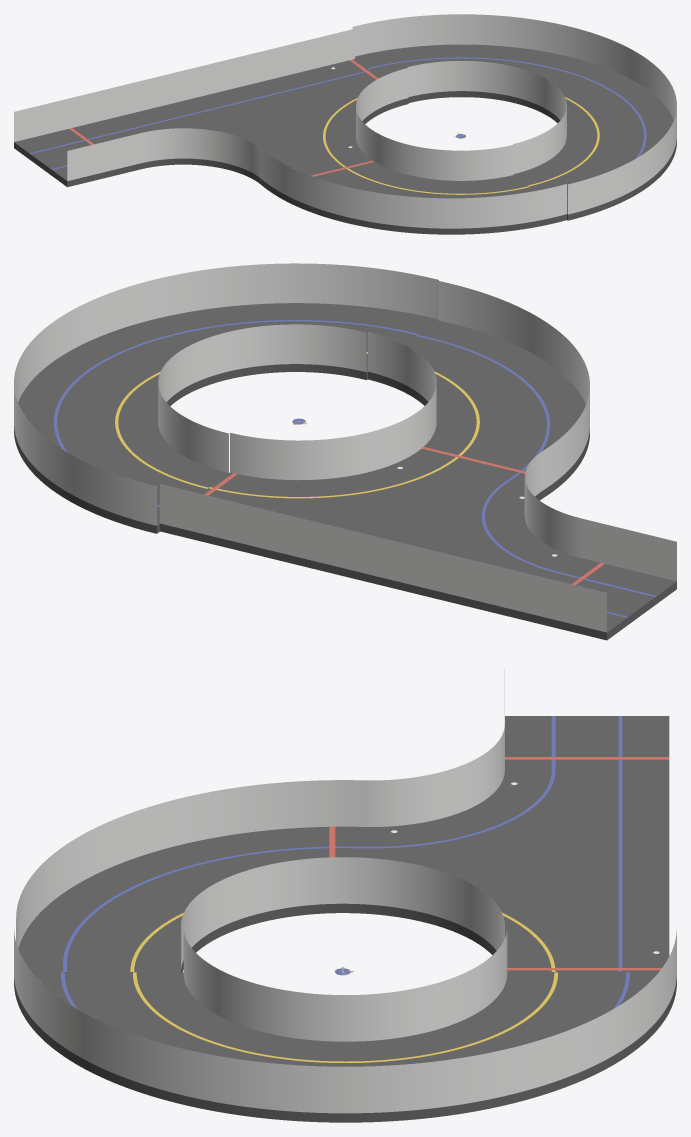
The model's file is small_oval.dae.
The picture shows the model from 3 angles, top to bottom: view 1: azimuth 30°, elevation 25°; view 2: azimuth 150°, elevation 25°; view 3: azimuth 270°, elevation 25°; orthographic projection. The views are drawn at different scales.
Parts seen in each view (by area): view 1: Small Oval v2; view 2: Small Oval v2; view 3: Small Oval v2.
Boxes of the visible parts, x1,y1,x2,y2 form: Small Oval v2: (14,14,676,234); Small Oval v2: (14,263,676,640); Small Oval v2: (14,669,676,1122).
Bounding box in the file's own units: 4.65 × 3.28 × 0.3048.
